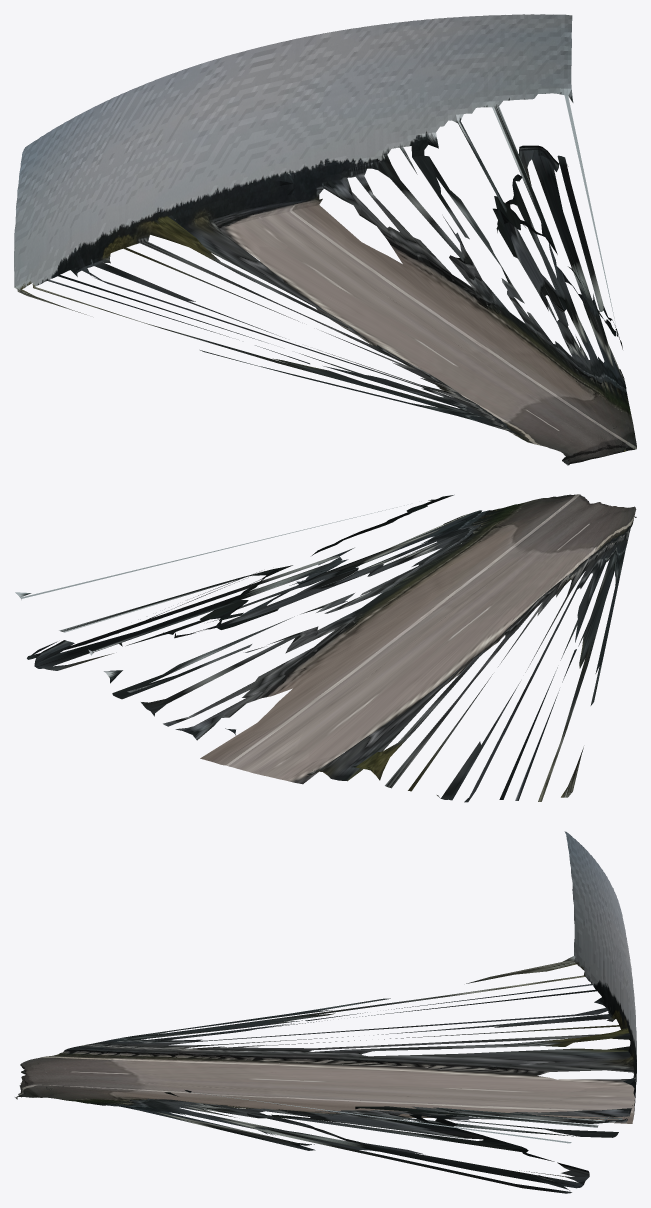
The picture shows the model from 3 angles, top to bottom: view 1: azimuth 30°, elevation 25°; view 2: azimuth 150°, elevation 25°; view 3: azimuth 270°, elevation 25°; orthographic projection. The views are drawn at different scales.
Visible parts, largest first — view 1: defaultobject; view 2: defaultobject; view 3: defaultobject.
Part boxes in pixels (box(x1,y1,x2,y2)): defaultobject: box(14, 14, 636, 465); defaultobject: box(15, 494, 636, 802); defaultobject: box(15, 831, 636, 1193).
Bounding box in the file's own units: 41.11 × 12.6 × 44.6.
Materials: 1 (1 with a texture image).
